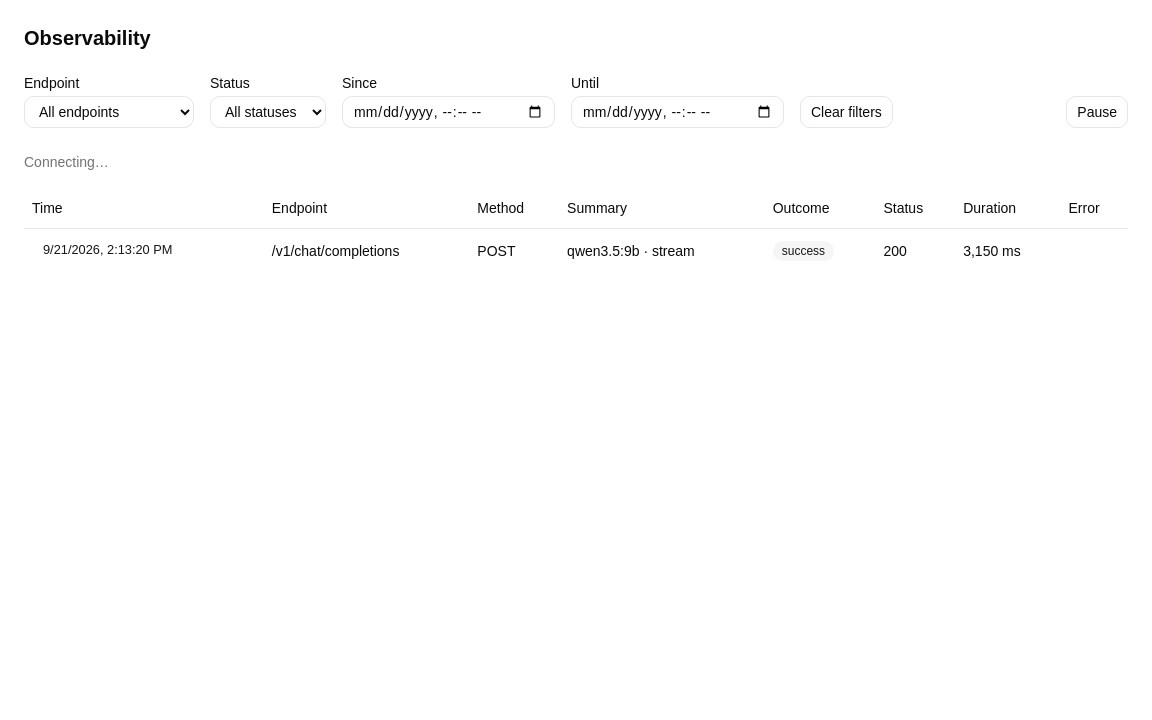
a failed step is highlighted with its error message
Click the button "9/21/2026, 2:13:20 PM" at point(108, 250), box x1=32 y1=236 x2=184 y2=264
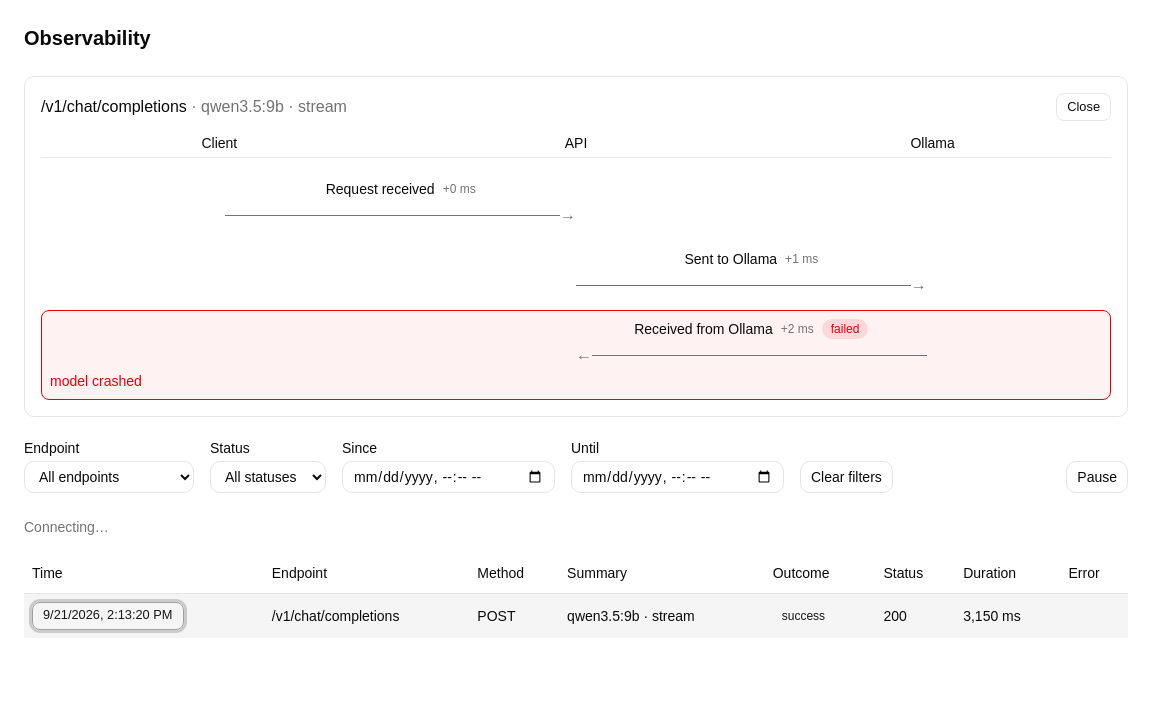
Result: the message "model crashed" is shown at x1=50 y1=373 x2=142 y2=389
